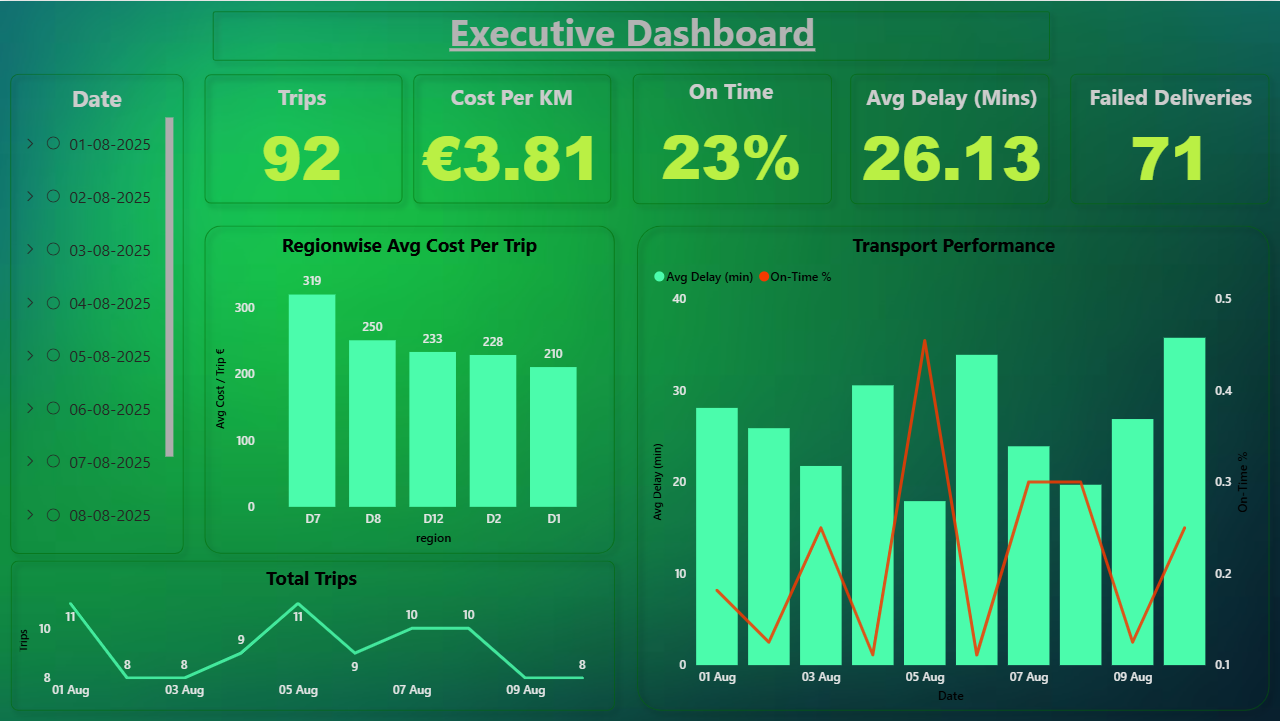

This screenshot's page, from the dashboard's own definition file:
{"tool":"powerbi","page":{"name":"Page 1","canvas":[1280,720],"ordinal":0},"visuals":[{"type":"shape","box":[193.9,62.6,219.6,150.9],"z":0},{"type":"shape","box":[840.5,62.6,219.6,150.9],"z":1000},{"type":"shape","box":[193.9,213.5,431.9,349.7],"z":2000},{"type":"shape","box":[625.8,213.5,654,506.8],"z":3000},{"type":"shape","box":[0,548.5,625.8,171.8],"z":4000},{"type":"shape","box":[1060.1,62.6,219.6,150.9],"z":5000},{"type":"shape","box":[402.5,62.6,219.6,150.9],"z":6000},{"type":"shape","box":[622.1,62.6,219.6,150.9],"z":7000},{"type":"shape","box":[0,62.6,193.9,500.6],"z":8000},{"type":"shape","box":[202.5,0,857.7,69.9],"z":9000},{"type":"lineStackedColumnComboChart","title":"Transport Performance","fields":{"Category":["Date.Date"],"Y":["Date.Avg Delay (min)"],"Y2":["_ Measures.On-Time %"]},"box":[649.1,230.7,609.8,476.1],"z":10000},{"type":"clusteredColumnChart","title":"Regionwise Avg Cost Per Trip","fields":{"Category":["ops v_routes_enriched_costs.region"],"Y":["Date.Avg Cost / Trip €"]},"box":[211,230.7,396.3,317.8],"z":11000},{"type":"lineChart","title":"Total Trips","fields":{"Category":["Date.Date"],"Y":["_ Measures.Trips"]},"box":[14.7,563.2,592.6,143.6],"z":12000},{"type":"card","title":"On Time","fields":{"Values":["_ Measures.On-Time %"]},"box":[636.8,74.8,190.2,126.4],"z":13000},{"type":"card","title":"Cost Per KM","fields":{"Values":["Date.Avg Cost / km €"]},"box":[416,81,191.4,115.3],"z":14000},{"type":"card","title":"Trips","fields":{"Values":["_ Measures.Trips"]},"box":[211,81,181.6,115.3],"z":15000},{"type":"card","title":"Avg Delay (Mins)","fields":{"Values":["Date.Avg Delay (min)"]},"box":[856.4,81,191.4,115.3],"z":16000},{"type":"card","title":"Failed Deliveries","fields":{"Values":["Date.Failed Deliveries"]},"box":[1074.9,81,191.4,115.3],"z":17000},{"type":"listSlicer","fields":{"Values":["Date.Date","ops v_routes_enriched_costs.weather_condition","ops v_routes_enriched_costs.subcontractor_name","ops v_routes_enriched_costs.region"]},"box":[14.7,81,163.2,467.5],"z":18000},{"type":"textbox","box":[224.5,0,814.7,68.7],"z":19000}]}

Visuals, with their boxes in screenshot pixels (x1, y1, x2, y2), scaled from the page's 1280x720 canvas onto the 1280x721 screenshot:
shape: <box>194,63,414,214</box>
shape: <box>840,63,1060,214</box>
shape: <box>194,214,626,564</box>
shape: <box>626,214,1279,720</box>
shape: <box>0,549,626,720</box>
shape: <box>1060,63,1279,214</box>
shape: <box>402,63,622,214</box>
shape: <box>622,63,842,214</box>
shape: <box>0,63,194,564</box>
shape: <box>202,0,1060,70</box>
"Transport Performance" lineStackedColumnComboChart: <box>649,231,1259,708</box>
"Regionwise Avg Cost Per Trip" clusteredColumnChart: <box>211,231,607,549</box>
"Total Trips" lineChart: <box>15,564,607,708</box>
"On Time" card: <box>637,75,827,201</box>
"Cost Per KM" card: <box>416,81,607,197</box>
"Trips" card: <box>211,81,393,197</box>
"Avg Delay (Mins)" card: <box>856,81,1048,197</box>
"Failed Deliveries" card: <box>1075,81,1266,197</box>
listSlicer - Date.Date x ops v_routes_enriched_costs.weather_condition: <box>15,81,178,549</box>
textbox: <box>224,0,1039,69</box>
